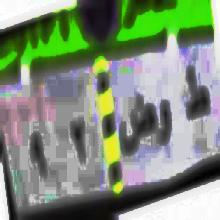2: (70, 112, 91, 170)
9: (26, 134, 51, 188)
Taa: (183, 61, 210, 130)
daad: (118, 89, 156, 161)
waw: (159, 97, 173, 150)
